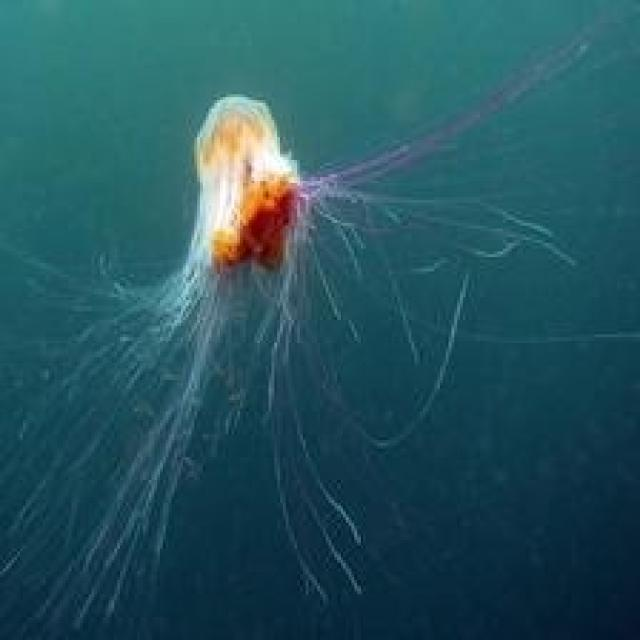Box-jellyfish: (0, 6, 623, 637)
